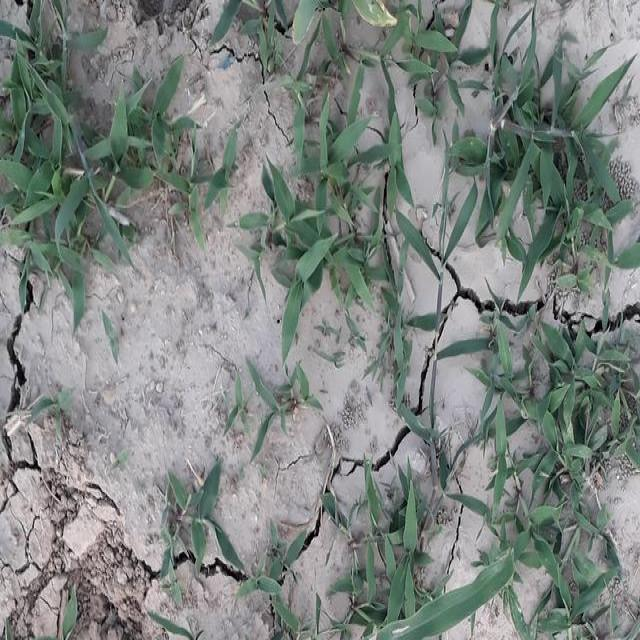weed: (472, 311, 640, 640), (0, 0, 183, 300), (258, 80, 415, 337), (469, 48, 640, 261), (313, 471, 469, 640)
